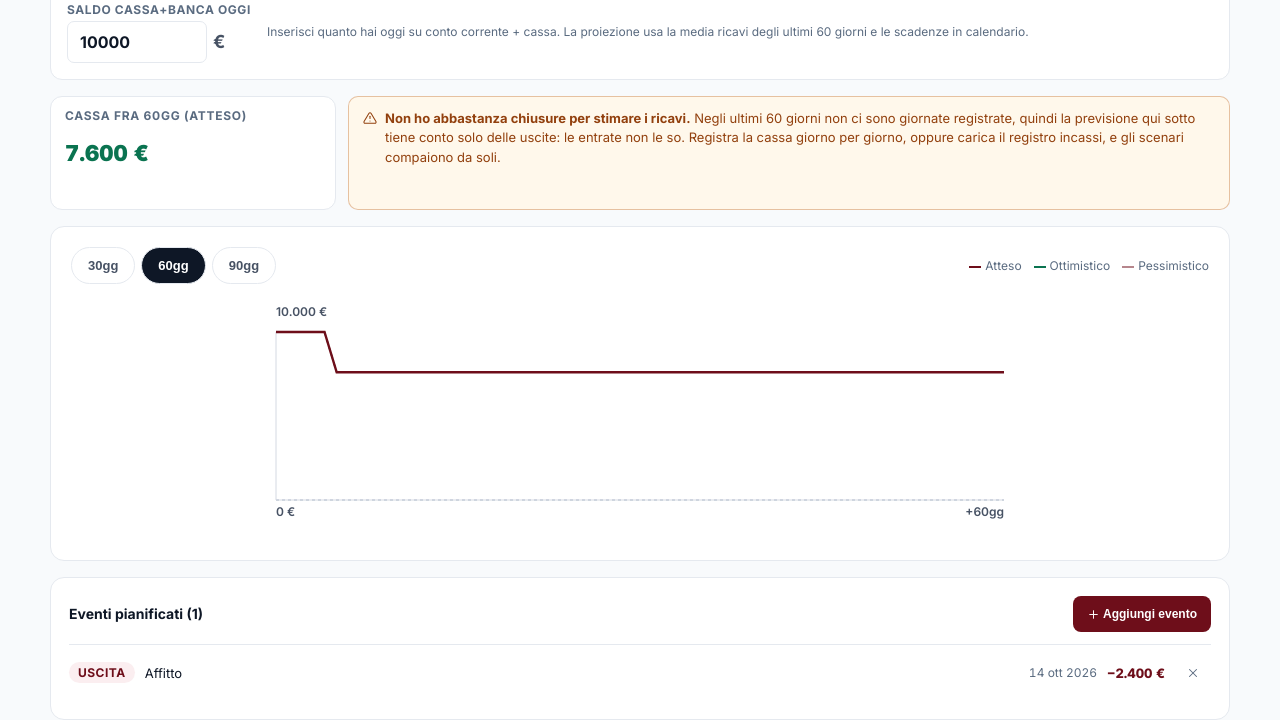
Test: eliminare un evento: la finestra è quella dell'app › se annulli, l'evento resta dov'è
(page scrolled)
Click the button named "Elimina evento Affitto" at (1193, 673), box left=1175, top=655, right=1211, bottom=691
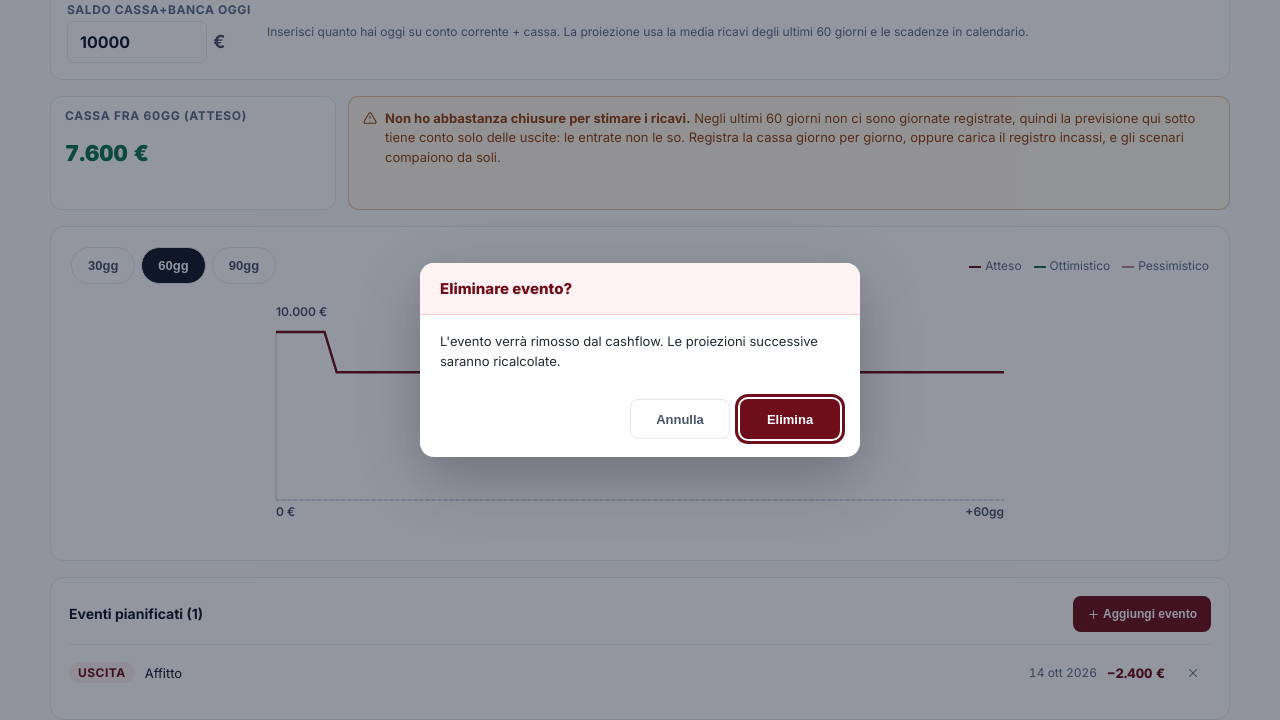
Now the text "Eliminare evento?" is shown, box left=440, top=279, right=572, bottom=298
Click the button "Annulla" at (680, 419), box left=630, top=399, right=730, bottom=439
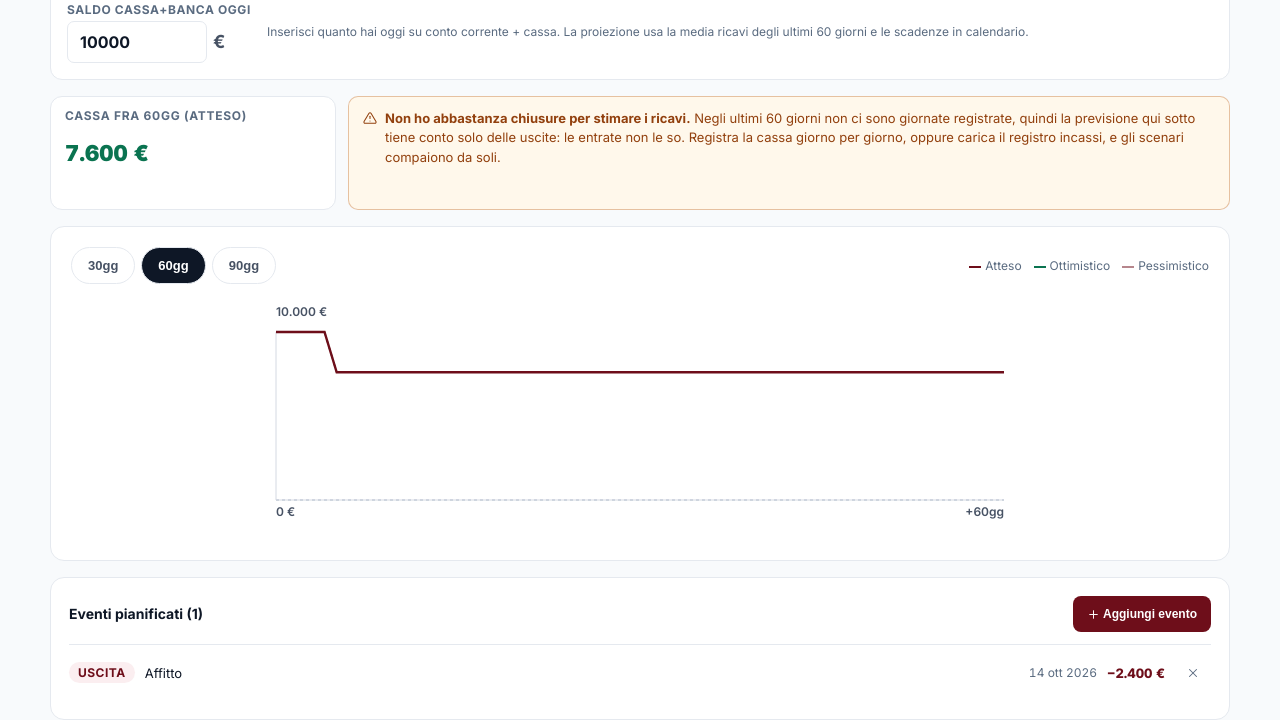
Expected: the text "Affitto" is shown, left=145, top=665, right=182, bottom=681
Now the text "Eliminare evento?" is gone
